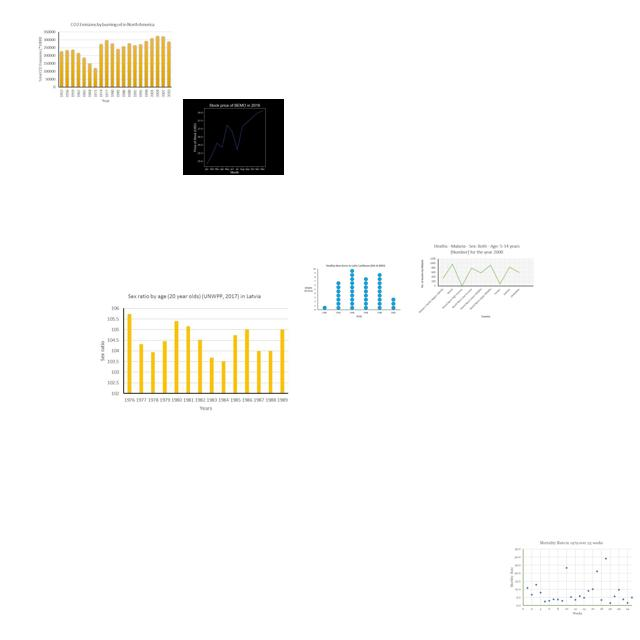Graph: (94, 291, 292, 414), (36, 21, 173, 104), (509, 541, 635, 616), (418, 242, 534, 321), (183, 99, 284, 175), (301, 261, 403, 321)
